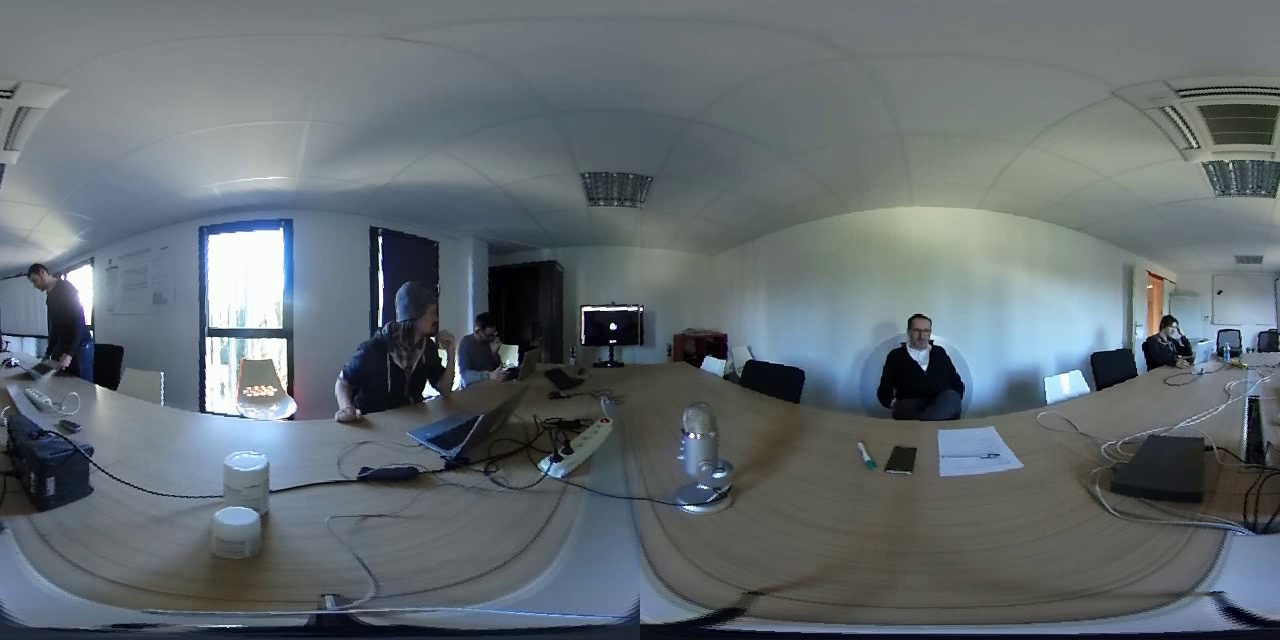person: (338, 270, 453, 418), (871, 295, 980, 416), (19, 252, 102, 373), (458, 304, 519, 379), (1146, 304, 1189, 383)
